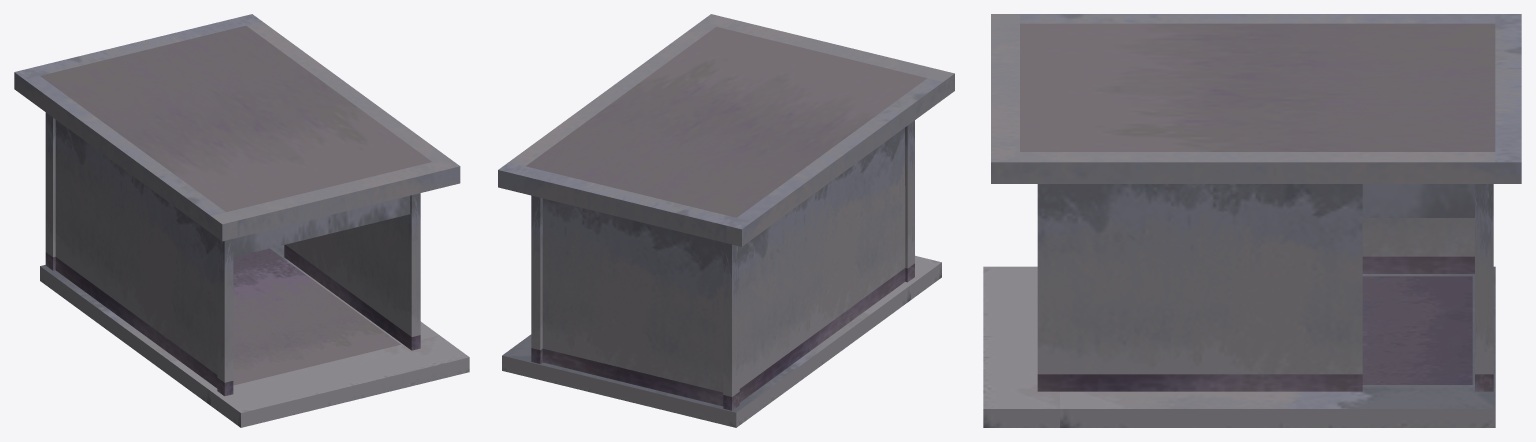
File: JpHouse_Garage01ar.fbx
3 renders of one model, left to right at view 1: azimuth 30°, elevation 25°; view 2: azimuth 150°, elevation 25°; view 3: azimuth 270°, elevation 25°, orthographic. The views are drawn at different scales.
Parts seen in each view (by area): view 1: JpHouse_Garage01ar; view 2: JpHouse_Garage01ar; view 3: JpHouse_Garage01ar.
Boxes of the visible parts, box(x1,y1,x2,y2) form: JpHouse_Garage01ar: box(14, 14, 469, 427); JpHouse_Garage01ar: box(498, 14, 954, 427); JpHouse_Garage01ar: box(983, 14, 1521, 427).
Size of the model in its own units: 4.76 by 3.82 by 7.11.
